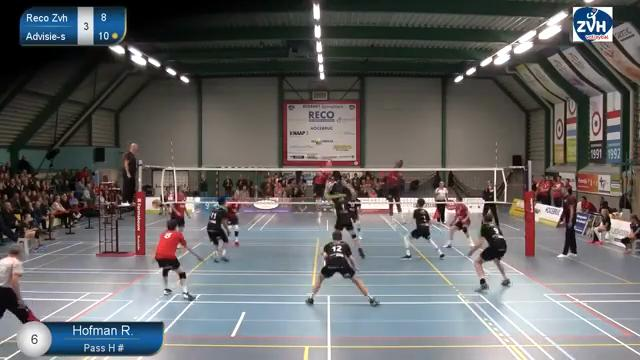attacco: (308, 156, 334, 228)
